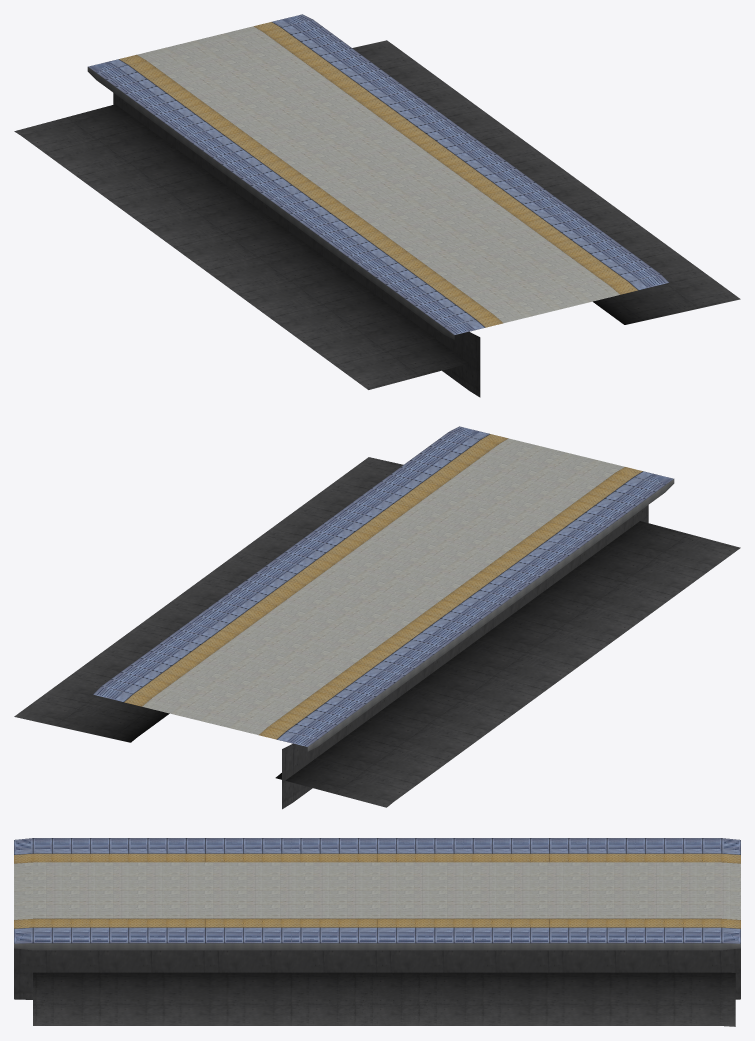
Rendered from AMB_MEI_CHIKA_HOME2.glb.
3 renders of one model, top to bottom at view 1: azimuth 30°, elevation 25°; view 2: azimuth 150°, elevation 25°; view 3: azimuth 270°, elevation 25°, orthographic.
Visible parts, largest first — view 1: BASE; view 2: BASE; view 3: BASE.
Part boxes in pixels (x1=…): BASE: x1=14, y1=14, x2=740, y2=397; BASE: x1=14, y1=426, x2=740, y2=809; BASE: x1=14, y1=838, x2=740, y2=1026.
Bounding box in the file's own units: 30.97 × 5.55 × 52.78.
Materials: 5 (5 with a texture image).
